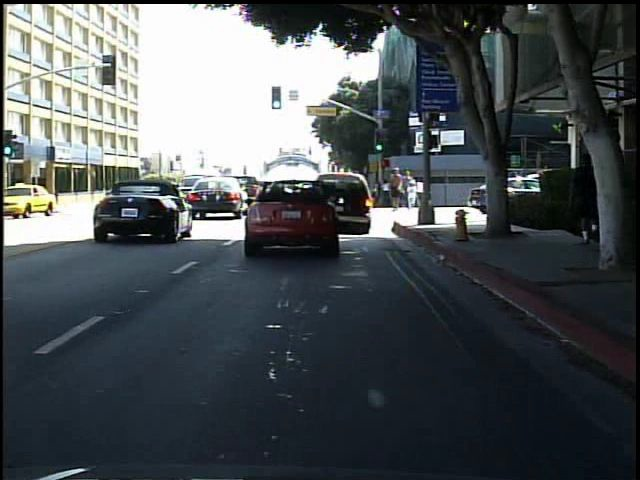person: (563, 155, 601, 246), (386, 165, 406, 213), (405, 176, 423, 210), (105, 177, 124, 204)
